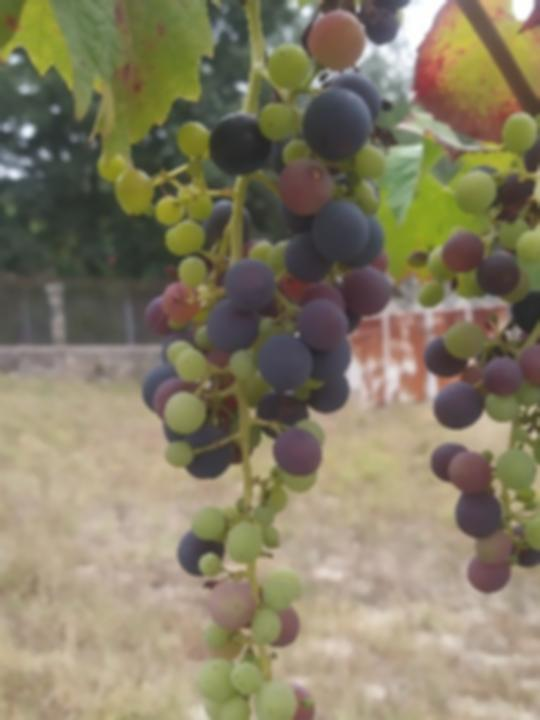grape: (97, 0, 412, 720), (409, 18, 540, 599)
